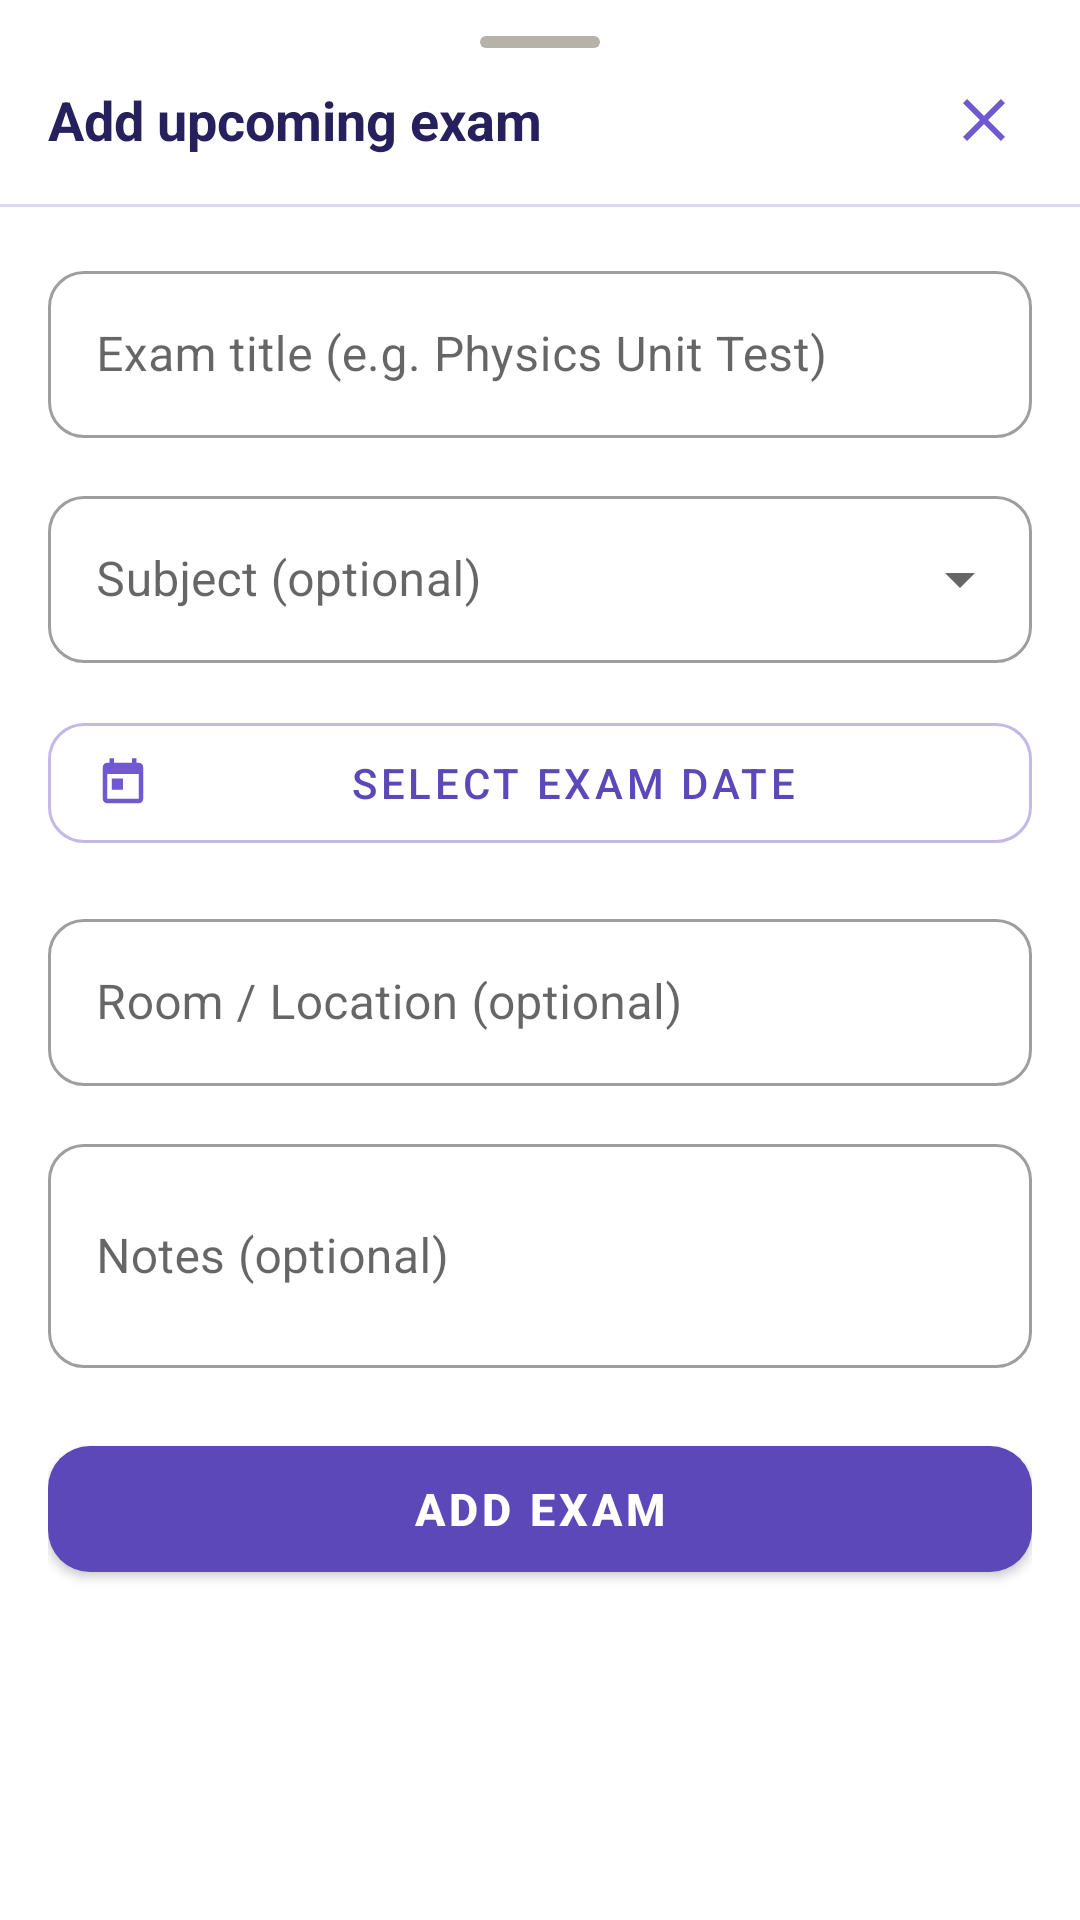

Named icons in this screenshot (1080 × 1920) and their bounding boxes, (x1, y1, x2, y2):
Close: (963, 99, 1005, 141)
